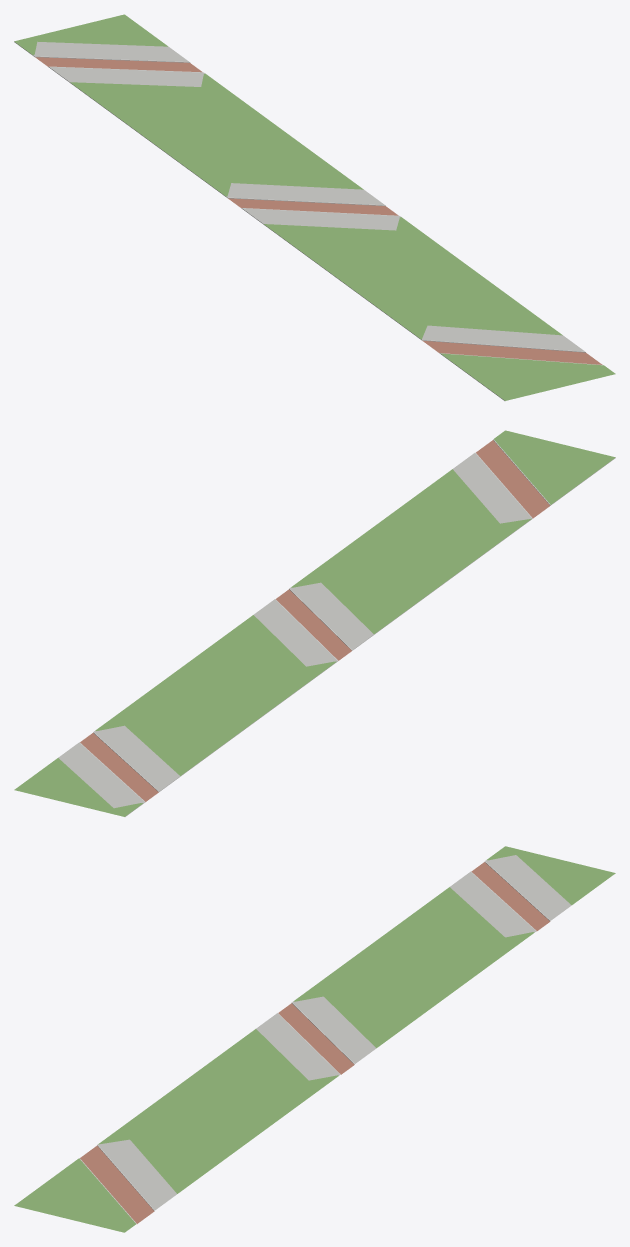
Rendered from ground_3_9.glb.
The picture shows the model from 3 angles, top to bottom: view 1: azimuth 30°, elevation 25°; view 2: azimuth 150°, elevation 25°; view 3: azimuth 330°, elevation 25°; orthographic projection.
Parts seen in each view (by area): view 1: ground_3_9; view 2: ground_3_9; view 3: ground_3_9.
Boxes of the visible parts, left/top/right/bottom form: ground_3_9: left=14, top=14, right=615, bottom=400; ground_3_9: left=14, top=430, right=615, bottom=816; ground_3_9: left=14, top=846, right=615, bottom=1232.
Size of the model in its own units: 26 by 0.12 by 200.
